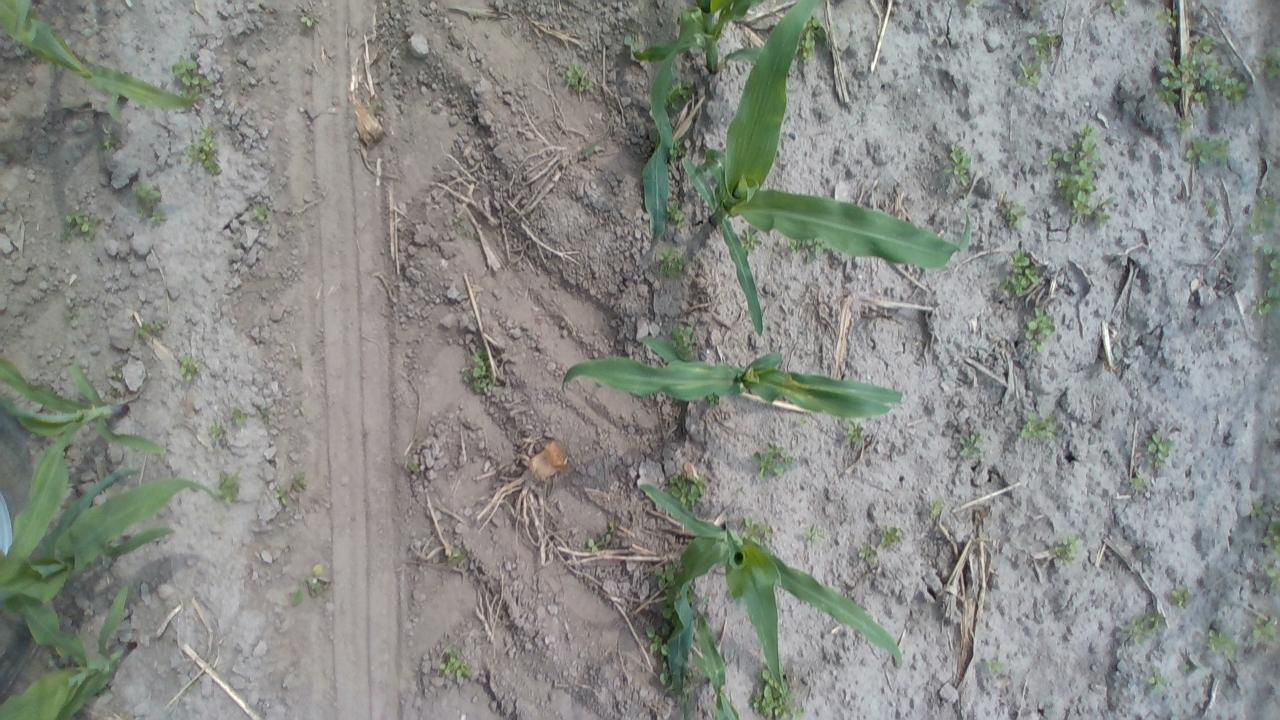Maize: (691, 0, 966, 338), (632, 483, 905, 718), (0, 468, 221, 660), (555, 332, 909, 431), (627, 0, 769, 244), (3, 352, 160, 568), (0, 2, 205, 126), (0, 583, 145, 719), (676, 600, 742, 719)
Weeds: (1048, 124, 1110, 227), (1156, 40, 1246, 106), (750, 667, 804, 719), (1000, 248, 1044, 296), (1020, 304, 1058, 356), (187, 124, 224, 176), (749, 442, 798, 481), (462, 347, 498, 393), (668, 472, 710, 510), (58, 209, 101, 245), (944, 141, 976, 189), (172, 54, 210, 92), (1184, 134, 1230, 165), (1018, 410, 1060, 443), (1144, 428, 1175, 470), (1250, 188, 1276, 238), (799, 17, 827, 62), (134, 184, 164, 225), (1205, 626, 1239, 662), (438, 644, 472, 679), (740, 513, 774, 544), (1052, 534, 1084, 566), (561, 62, 593, 94), (667, 324, 698, 356), (956, 430, 986, 463), (301, 563, 329, 598), (1028, 30, 1060, 60), (214, 472, 242, 506), (1130, 612, 1164, 640), (656, 248, 687, 278), (784, 237, 826, 259), (659, 658, 682, 698), (652, 561, 682, 591), (665, 80, 693, 112), (584, 524, 616, 552), (1016, 58, 1044, 87), (1252, 286, 1277, 318), (1256, 243, 1277, 281), (646, 624, 670, 656), (1260, 516, 1277, 559), (134, 318, 167, 340), (1251, 612, 1276, 640), (657, 594, 681, 622), (1004, 200, 1027, 229), (177, 352, 200, 380), (1152, 6, 1178, 30), (740, 227, 763, 254), (1168, 583, 1192, 608), (880, 525, 906, 548), (666, 198, 686, 226), (846, 422, 869, 446), (228, 406, 250, 430), (1262, 48, 1277, 82), (250, 200, 274, 221), (857, 541, 879, 563), (446, 546, 472, 564), (64, 300, 82, 326), (985, 656, 1007, 677), (927, 494, 947, 517), (106, 364, 129, 384), (456, 215, 474, 240), (98, 130, 118, 152), (802, 524, 822, 546), (273, 484, 292, 507), (1126, 474, 1150, 492), (1262, 564, 1276, 594), (208, 422, 227, 443), (578, 141, 602, 157), (406, 454, 423, 476), (299, 12, 318, 31), (1180, 658, 1200, 676), (1148, 671, 1168, 689), (291, 470, 308, 491), (670, 138, 684, 162), (1108, 0, 1128, 16), (292, 585, 306, 607), (1250, 500, 1266, 519), (1203, 199, 1220, 216), (1176, 115, 1192, 132), (963, 0, 985, 8)
